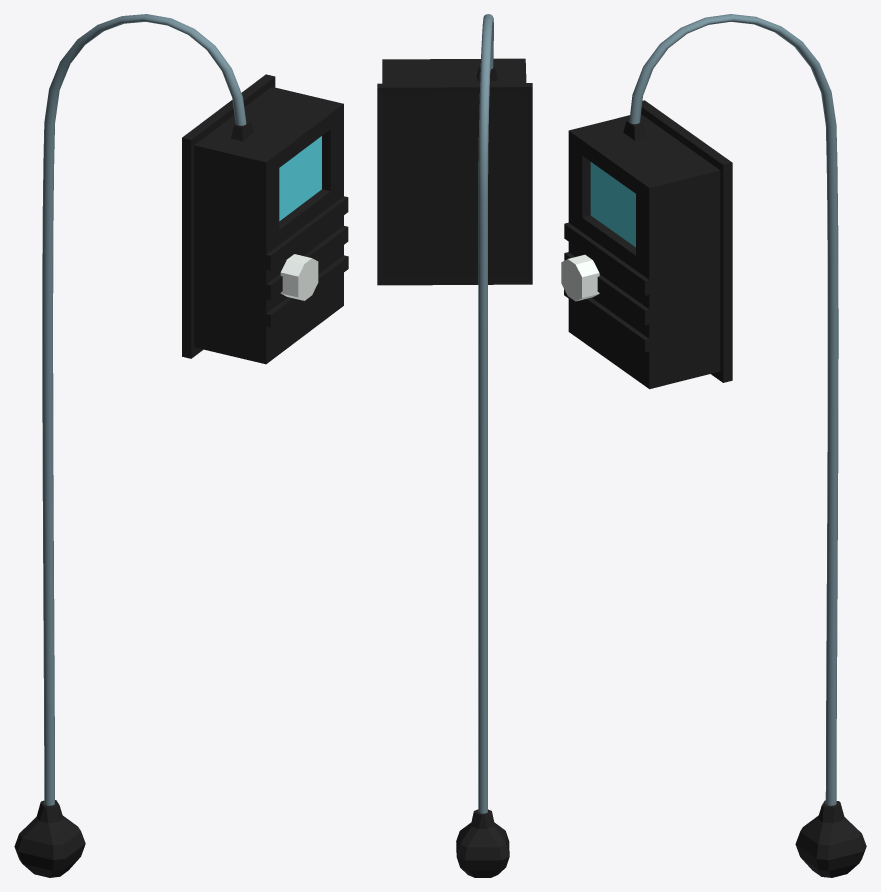
File: aerator.fbx
The picture shows the model from 3 angles, left to right: view 1: azimuth 30°, elevation 25°; view 2: azimuth 150°, elevation 25°; view 3: azimuth 270°, elevation 25°; orthographic projection. The views are drawn at different scales.
Visible parts, largest first — view 1: Cube.006, BézierCurve, Cube.008, Cube.005; view 2: Cube.006, BézierCurve, Cube.008; view 3: Cube.006, BézierCurve, Cube.008, Cube.005.
Part boxes in pixels (left/top/right/bottom): Cube.006: left=182, top=74, right=348, bottom=364; BézierCurve: left=42, top=14, right=246, bottom=805; Cube.008: left=14, top=800, right=85, bottom=877; Cube.005: left=280, top=254, right=318, bottom=300; Cube.006: left=377, top=58, right=532, bottom=285; BézierCurve: left=478, top=14, right=493, bottom=813; Cube.008: left=456, top=809, right=509, bottom=877; Cube.006: left=564, top=100, right=732, bottom=389; BézierCurve: left=629, top=14, right=838, bottom=805; Cube.008: left=795, top=800, right=866, bottom=877; Cube.005: left=561, top=254, right=599, bottom=301.
Bounding box in the file's own units: 25.27 × 90.36 × 28.44.
